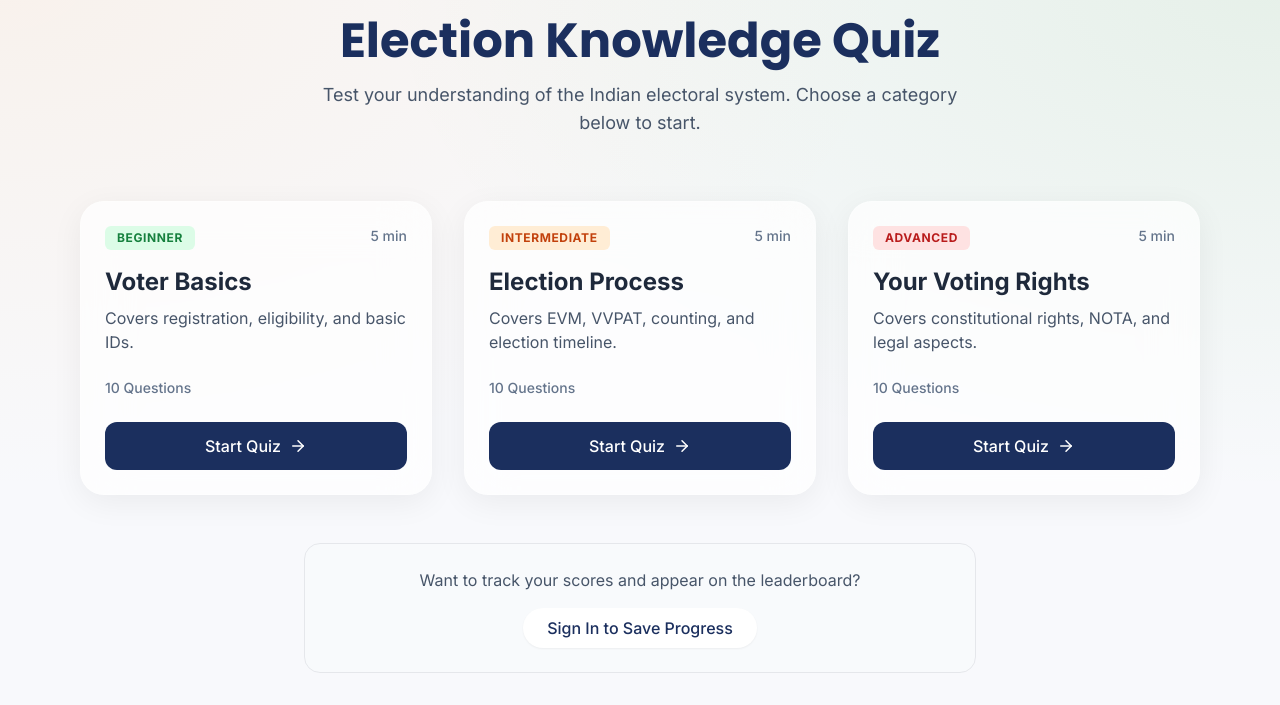
Test case: Quiz Page › Answer Selection › should show "Next Question" button after answering
The image size is (1280, 705).
Click the button "Start Quiz" below "Voter Basics" at (256, 446), box 105,422 -> 407,470
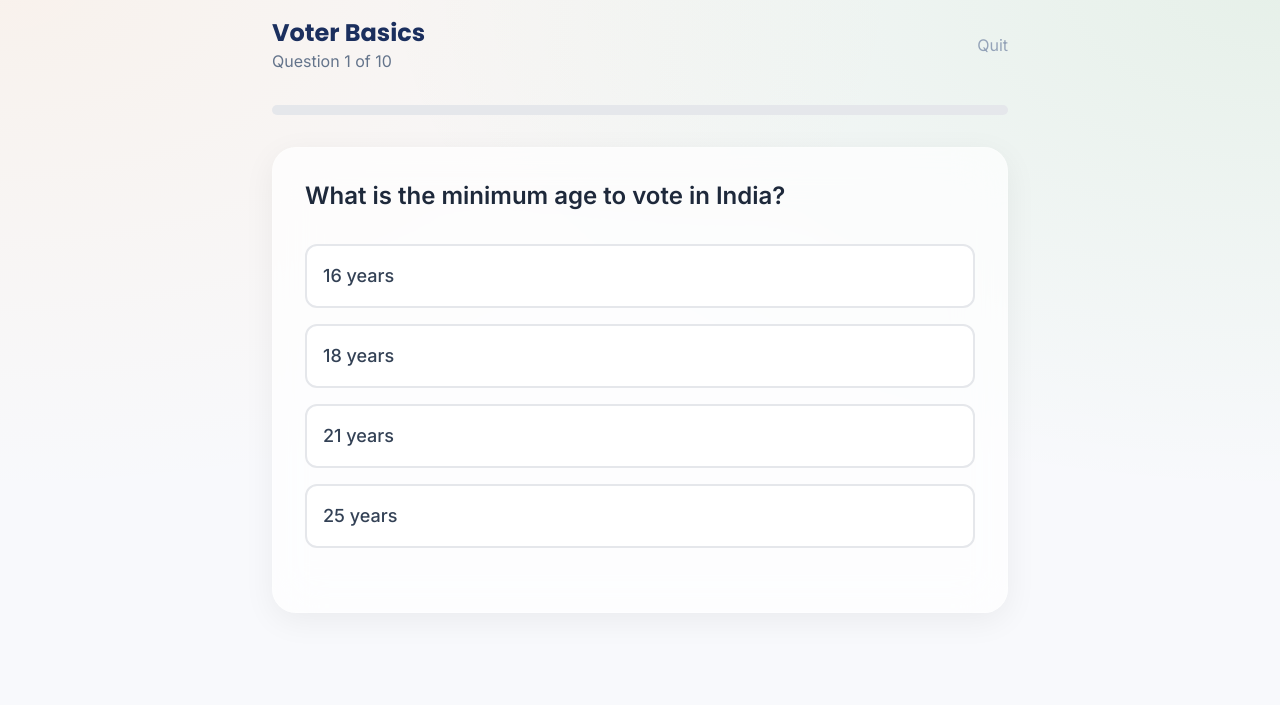
Expected: the text "18 years" is shown, 323,342 -> 394,370
Click the button "18 years" at (359, 356), box 305,324 -> 975,388
(page scrolled)
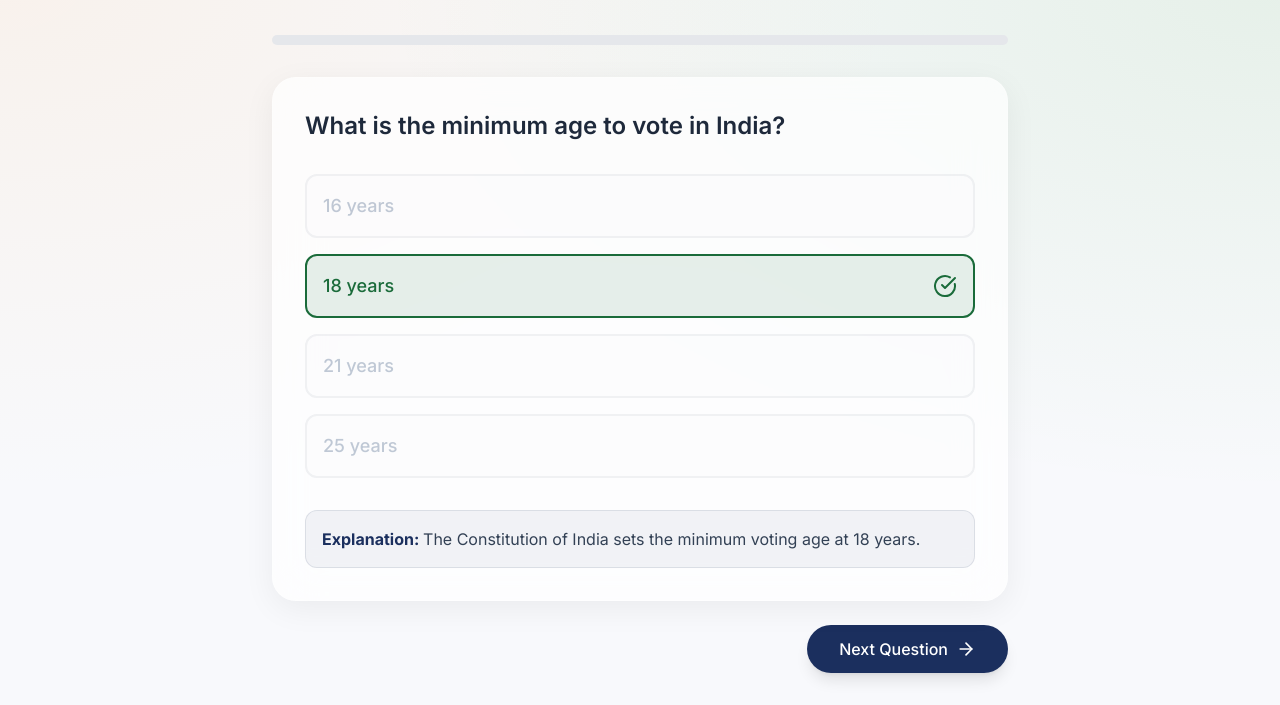
Expected: the button "Next Question" is shown, 807,625 -> 1008,673
